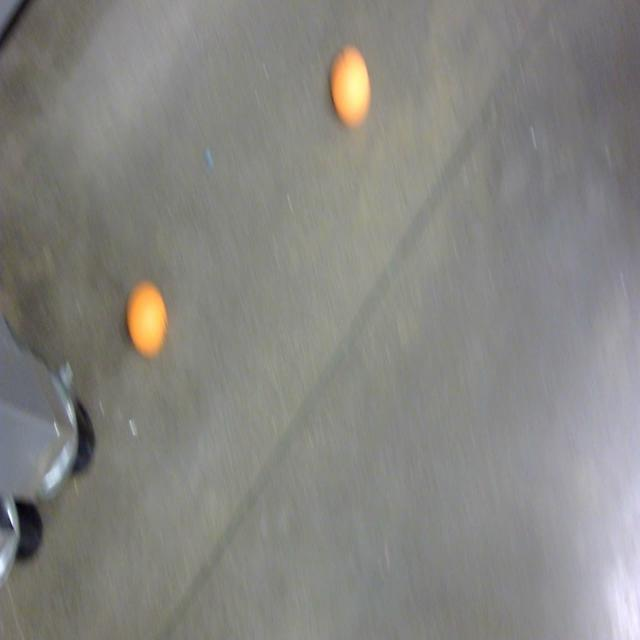ball: (328, 44, 373, 130), (126, 280, 170, 358)
